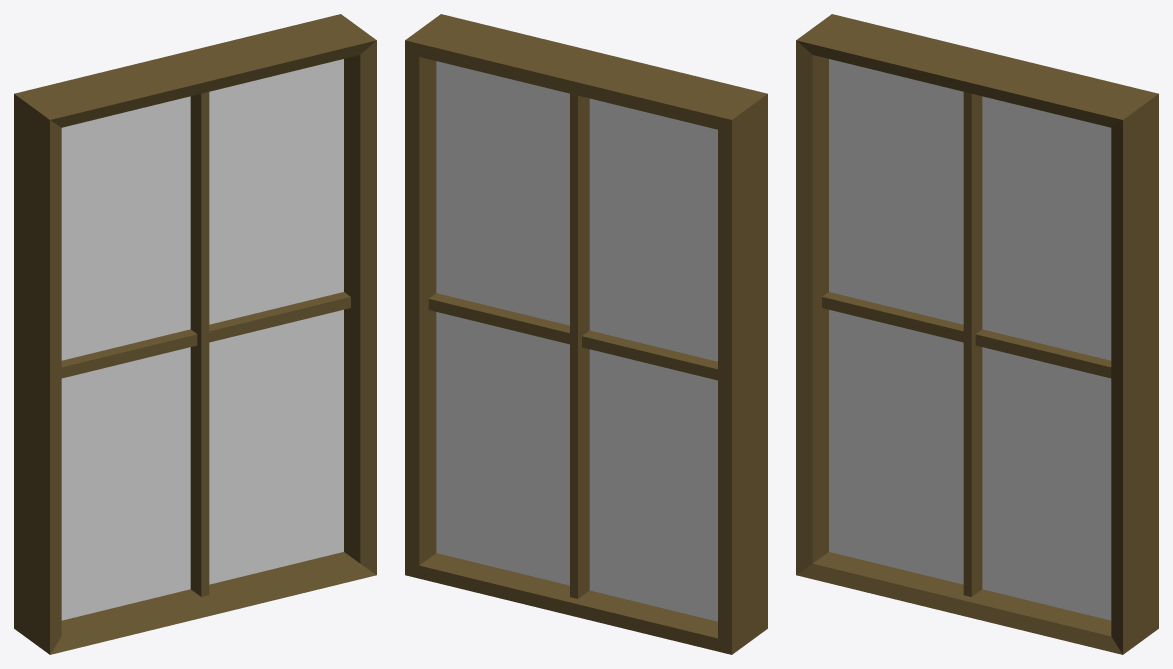
Rendered from geamuri.fbx.
The picture shows the model from 3 angles, left to right: view 1: azimuth 30°, elevation 25°; view 2: azimuth 150°, elevation 25°; view 3: azimuth 330°, elevation 25°; orthographic projection.
Parts seen in each view (by area): view 1: Cube.060; view 2: Cube.060; view 3: Cube.060.
Boxes of the visible parts, x1=… form: Cube.060: x1=14, y1=14, x2=376, y2=654; Cube.060: x1=405, y1=14, x2=767, y2=654; Cube.060: x1=796, y1=14, x2=1158, y2=654.
Bounding box in the file's own units: 102 × 159 × 19.4.
